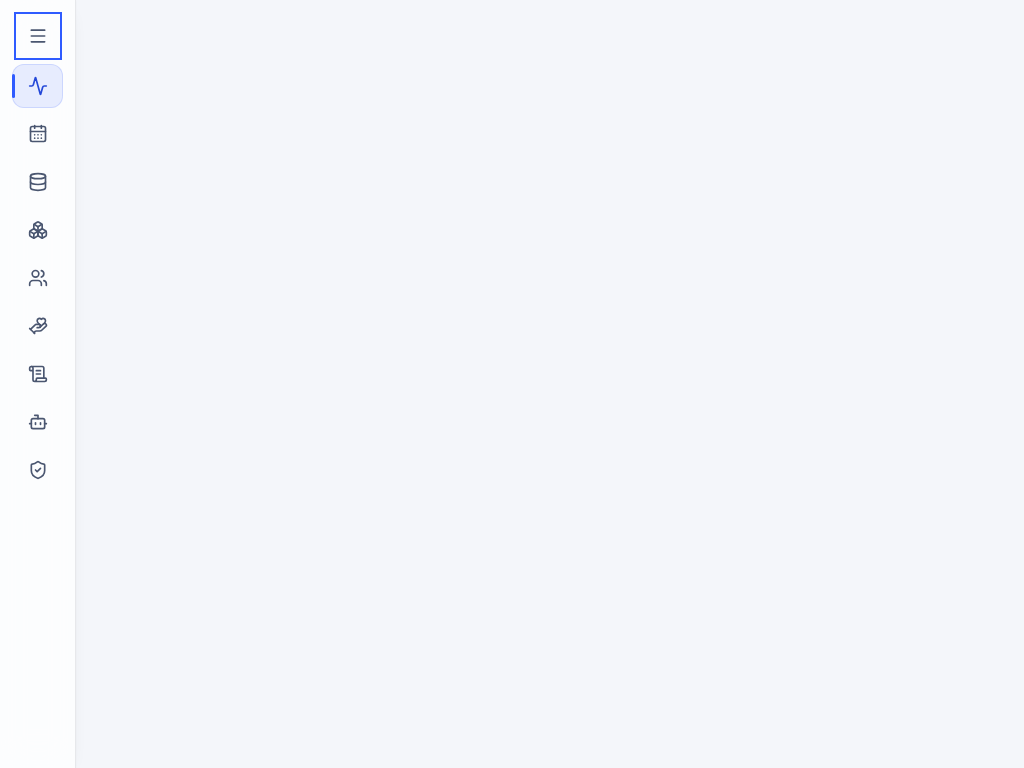
Test case: admin sidebar › phone drawer › closes with the close button and returns focus to the menu button
Click the button with test id "sidebar-open". click: (38, 36)
box: left=18, top=16, right=58, bottom=56
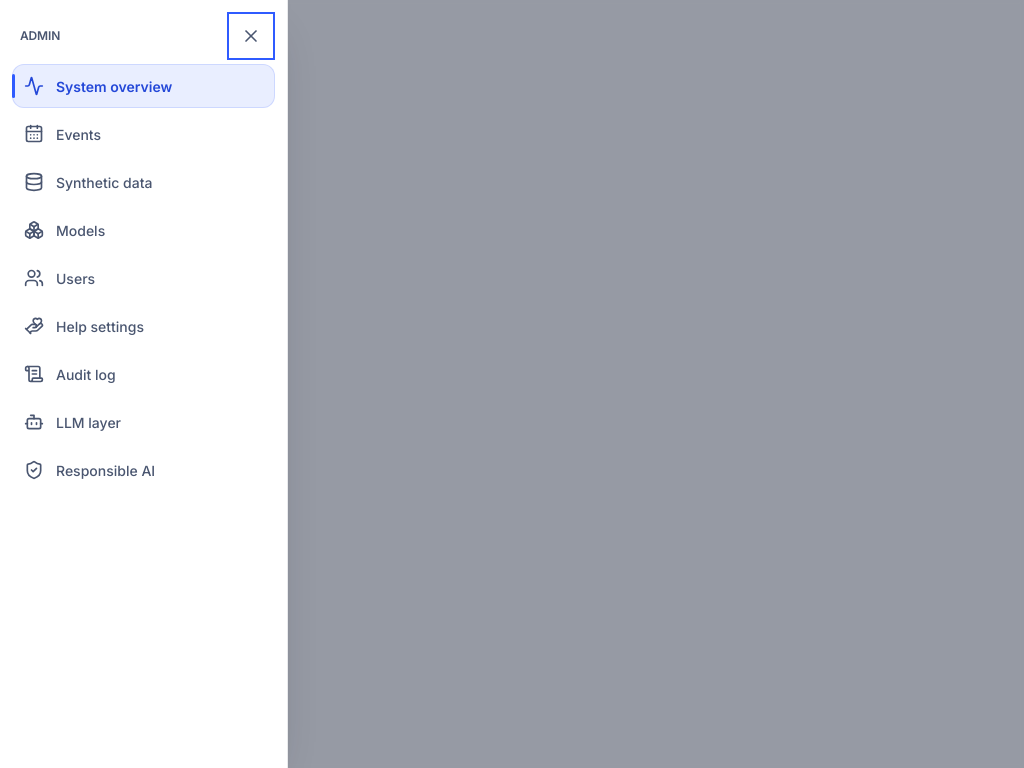
Expected: the dialog with test id "sidebar-drawer" is shown, left=0, top=0, right=288, bottom=767
Click the button with test id "sidebar-close". click: (251, 36)
box: left=231, top=16, right=271, bottom=56
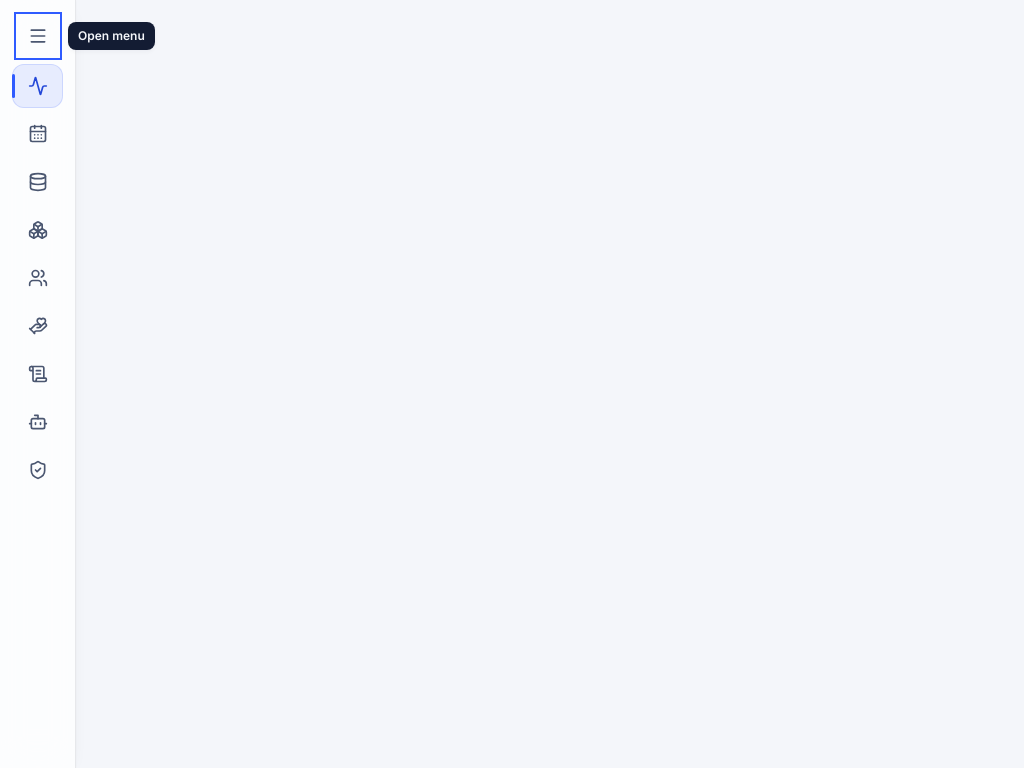
Expected: the dialog with test id "sidebar-drawer" is gone
